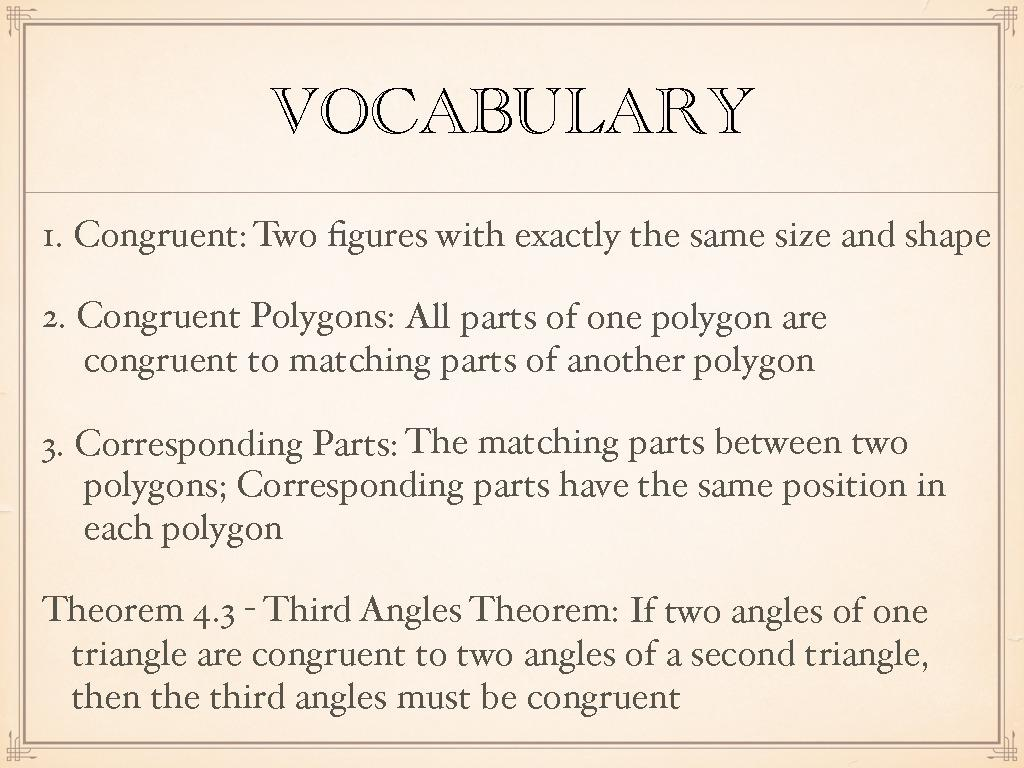paragraph: (36, 199, 998, 727)
title: (254, 66, 762, 162)
